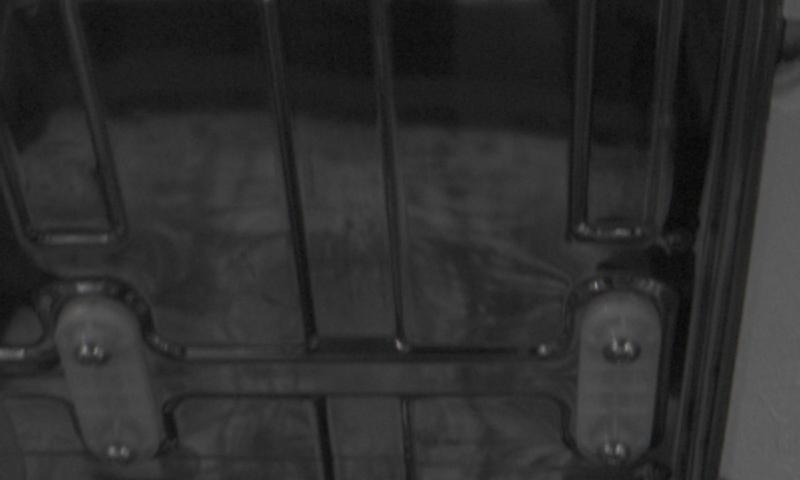vida-ok: (68, 332, 114, 376), (598, 330, 645, 373), (587, 437, 632, 477), (96, 431, 141, 470)
